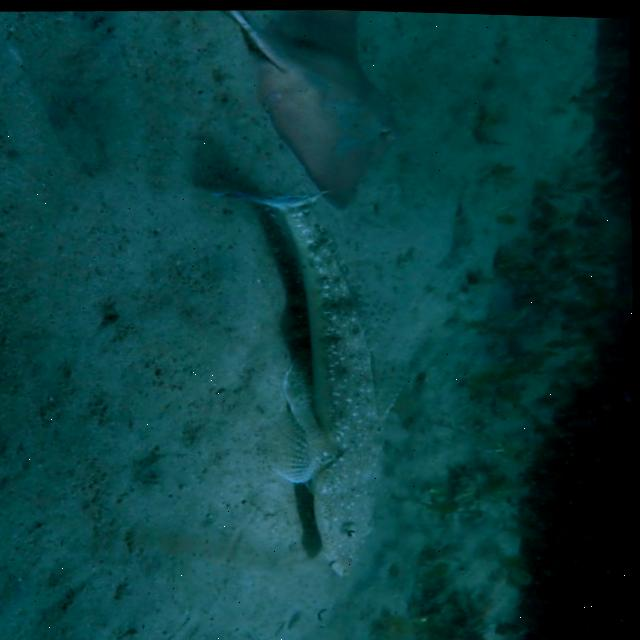Flathead: (196, 174, 425, 588)
